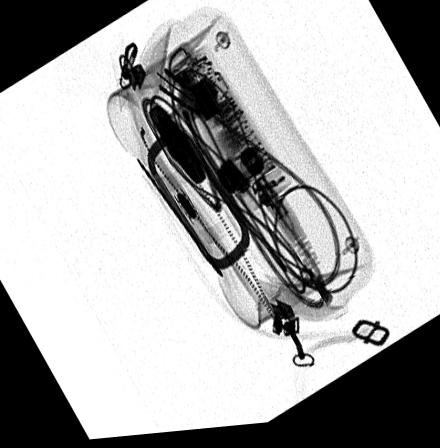Lighter: (147, 104, 207, 188)
